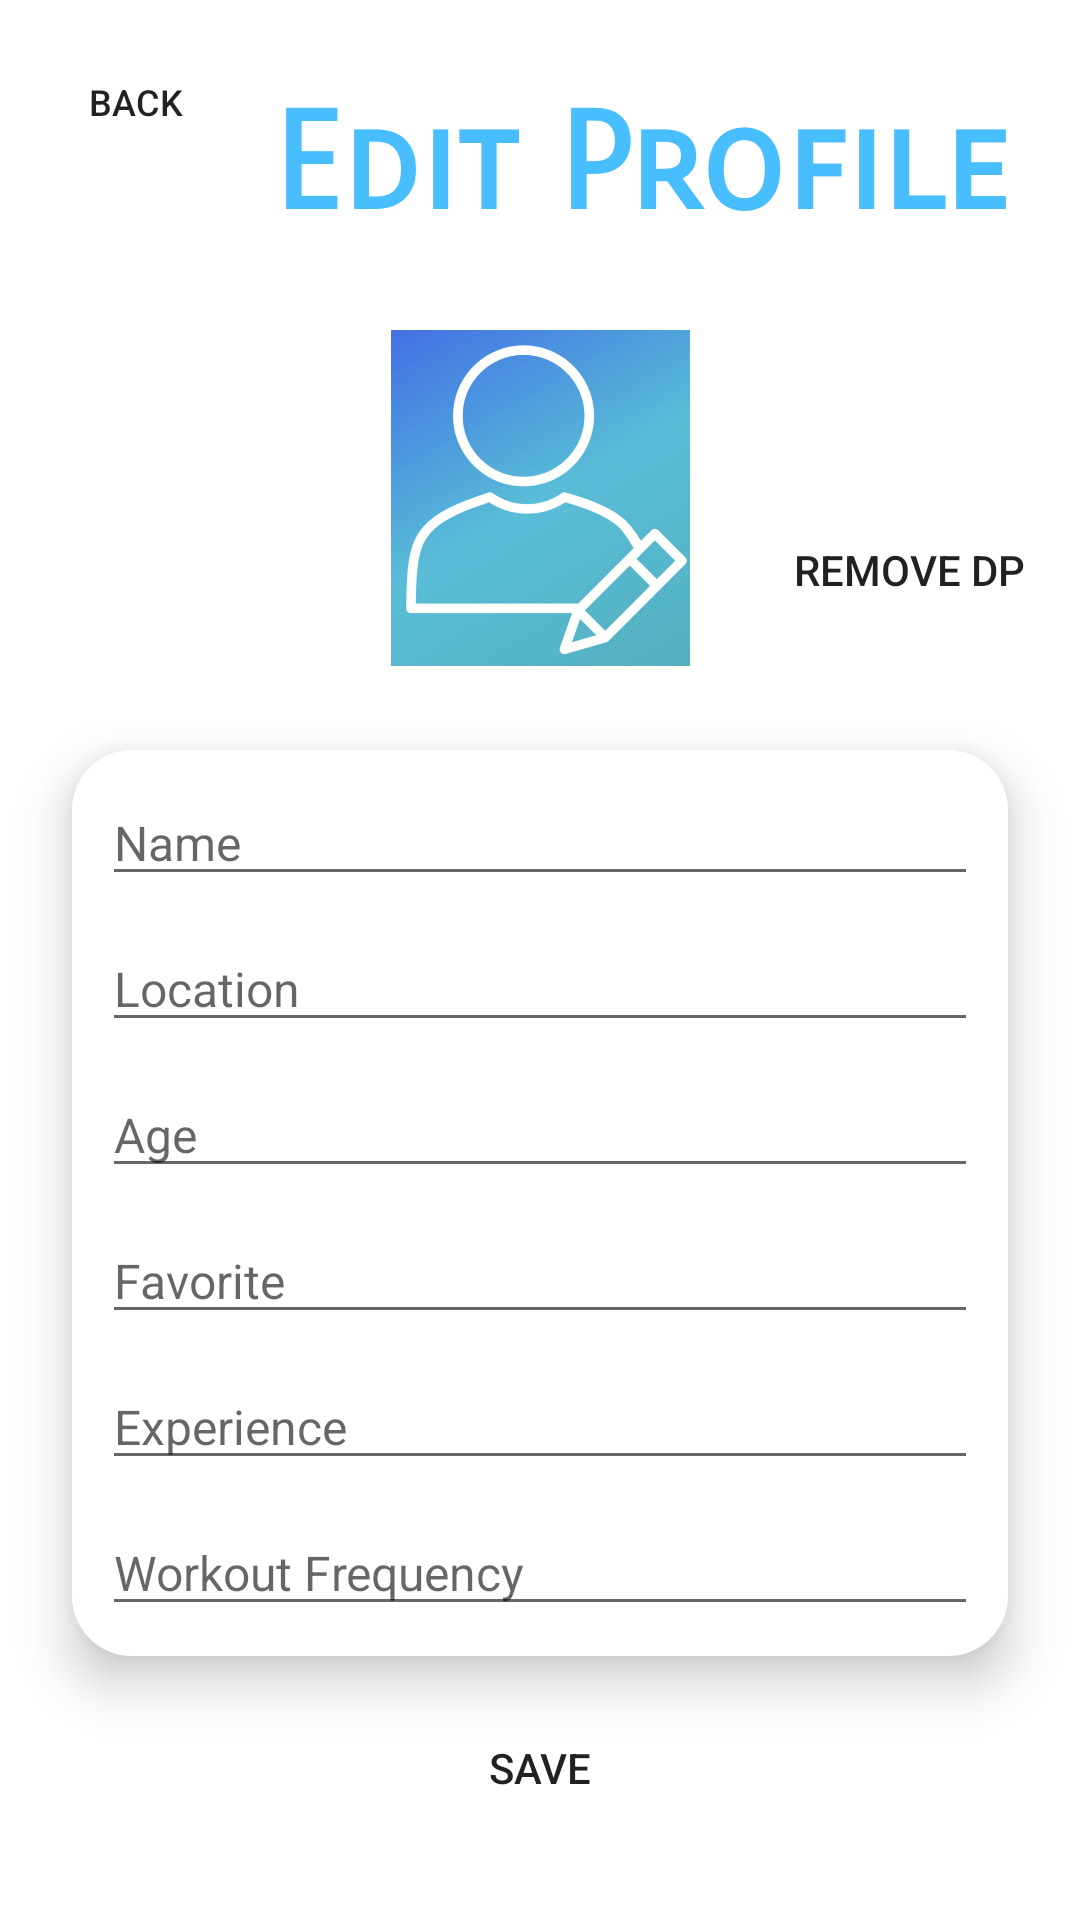

Where icons sit on this 1080px×1920px app screen, as (x1, y1, x2, y2):
editdp: (391, 330, 690, 666)
